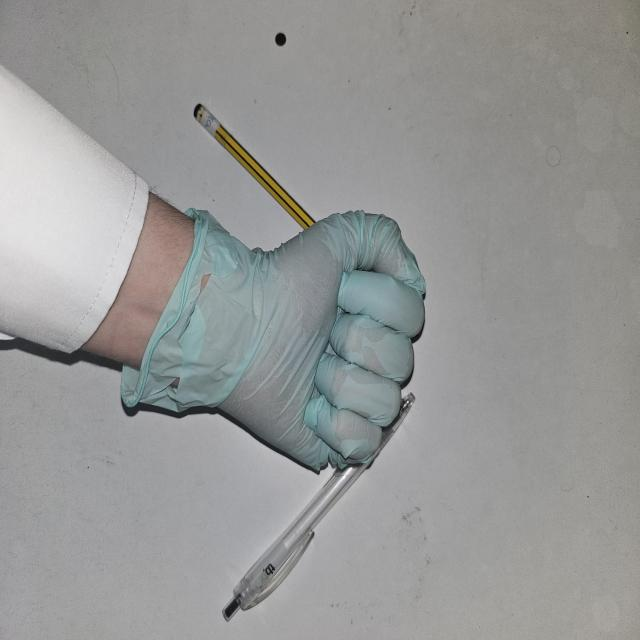gloves_damaged: (120, 208, 424, 473)
